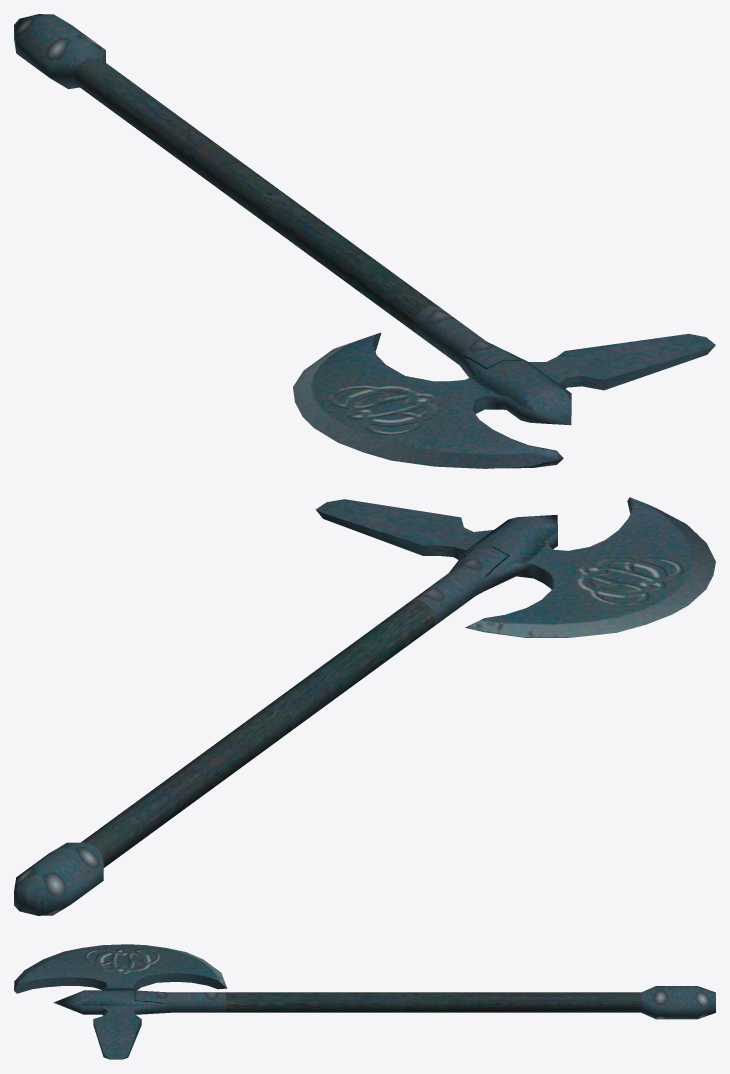
File: axe2a.obj
3 renders of one model, top to bottom at view 1: azimuth 30°, elevation 25°; view 2: azimuth 150°, elevation 25°; view 3: azimuth 270°, elevation 25°, orthographic. The views are drawn at different scales.
Parts seen in each view (by area): view 1: object; view 2: object; view 3: object.
Boxes of the visible parts, x1=… form: object: x1=14, y1=14, x2=715, y2=468; object: x1=14, y1=497, x2=715, y2=915; object: x1=14, y1=944, x2=715, y2=1059.
Bounding box in the file's own units: 1.25 × 0.1405 × 3.21.
